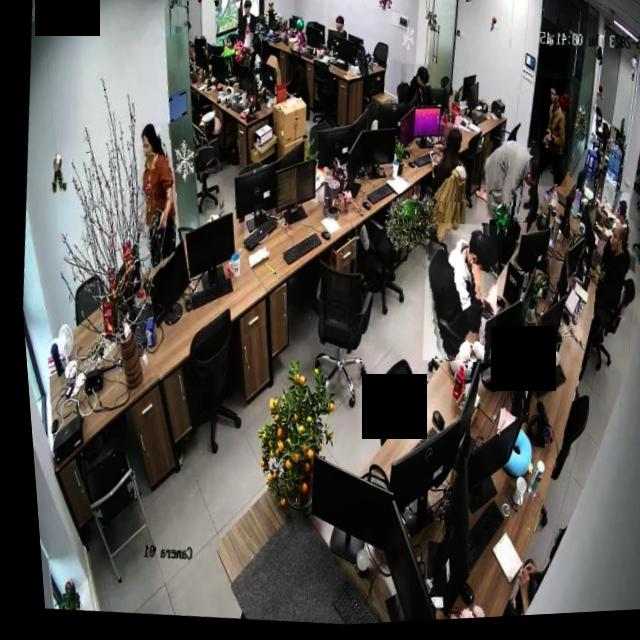person: (408, 223, 503, 371), (124, 123, 185, 272), (469, 144, 540, 230), (583, 223, 635, 326), (529, 83, 574, 194), (423, 128, 471, 209), (231, 0, 262, 56), (396, 67, 432, 111), (241, 35, 268, 77), (606, 197, 628, 236)
